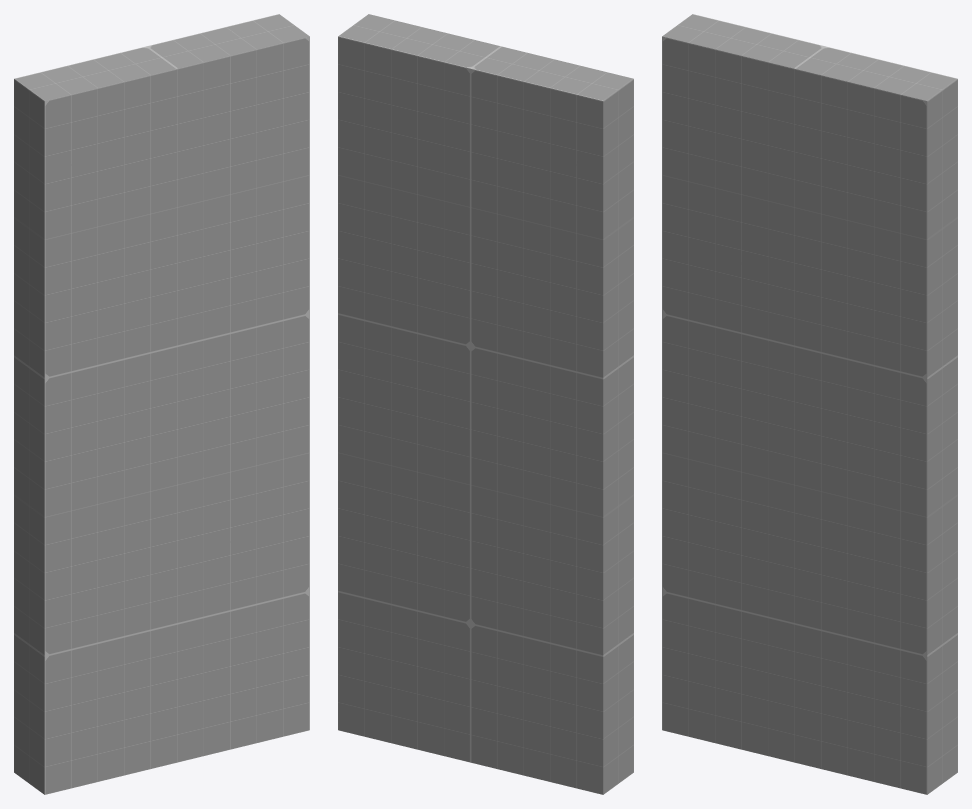
File: Wall_1x1.001.fbx
The picture shows the model from 3 angles, left to right: view 1: azimuth 30°, elevation 25°; view 2: azimuth 150°, elevation 25°; view 3: azimuth 330°, elevation 25°; orthographic projection.
Visible parts, largest first — view 1: Wall_1x1.001; view 2: Wall_1x1.001; view 3: Wall_1x1.001.
Part boxes in pixels (box(x1,y1,x2,y2)): Wall_1x1.001: box(14, 14, 309, 794); Wall_1x1.001: box(338, 14, 633, 794); Wall_1x1.001: box(662, 14, 957, 794).
Size of the model in its own units: 100 by 250 by 20.
